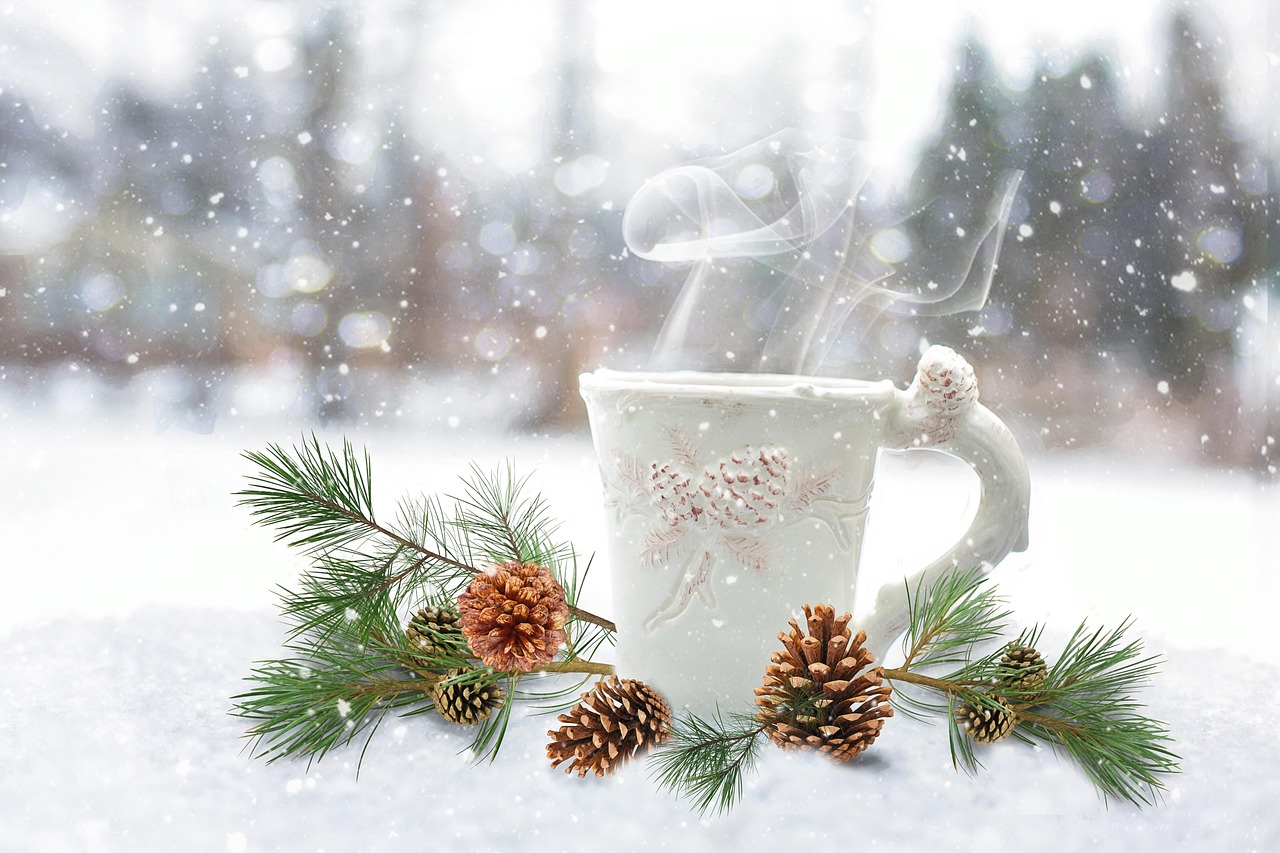mug: (559, 337, 1069, 743)
